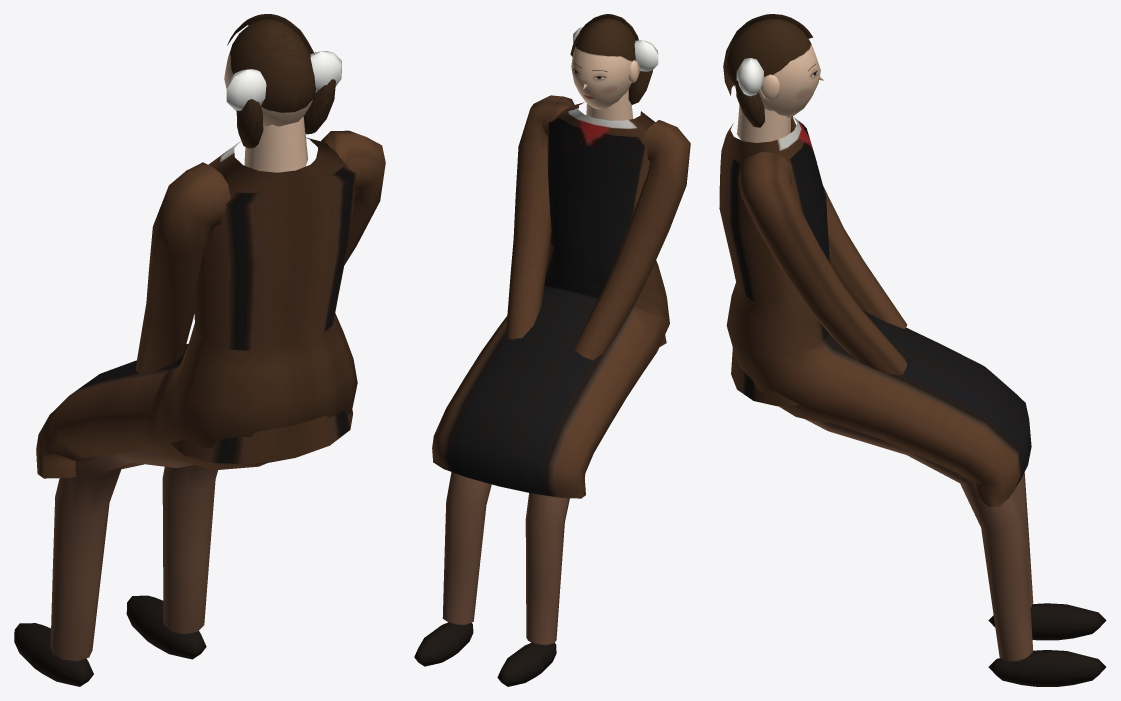
Rendered from schoolgirl.glb.
3 renders of one model, left to right at view 1: azimuth 30°, elevation 25°; view 2: azimuth 150°, elevation 25°; view 3: azimuth 270°, elevation 25°, orthographic. The views are drawn at different scales.
Visible parts, largest first — view 1: Body, HeadMesh; view 2: Body, HeadMesh; view 3: Body, HeadMesh.
Boxes of the visible parts, x1,y1,x2,y2 form: Body: [14, 117, 385, 686]; HeadMesh: [224, 14, 341, 148]; Body: [414, 89, 690, 686]; HeadMesh: [570, 14, 658, 109]; Body: [719, 105, 1106, 686]; HeadMesh: [723, 14, 823, 127].
Bounding box in the file's own units: 0.3635 × 1.19 × 0.6455.
Materials: 1 (1 with a texture image).
